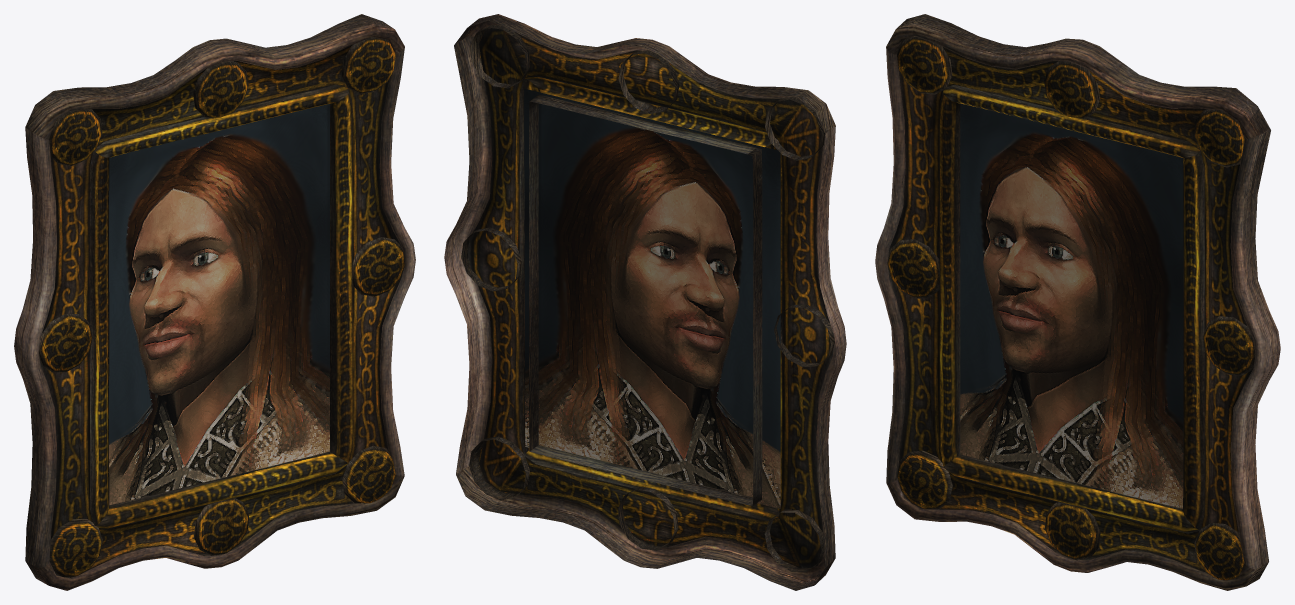
The model's file is Wall_Picture_B.DAE.
3 renders of one model, left to right at view 1: azimuth 30°, elevation 25°; view 2: azimuth 150°, elevation 25°; view 3: azimuth 330°, elevation 25°, orthographic.
Parts seen in each view (by area): view 1: Wall_Picture_B; view 2: Wall_Picture_B; view 3: Wall_Picture_B.
Part boxes in pixels (x1,y1,x2,y2): Wall_Picture_B: (14,14,415,590); Wall_Picture_B: (444,14,846,590); Wall_Picture_B: (875,14,1280,590).
Bounding box in the file's own units: 121 × 7.42 × 154.
